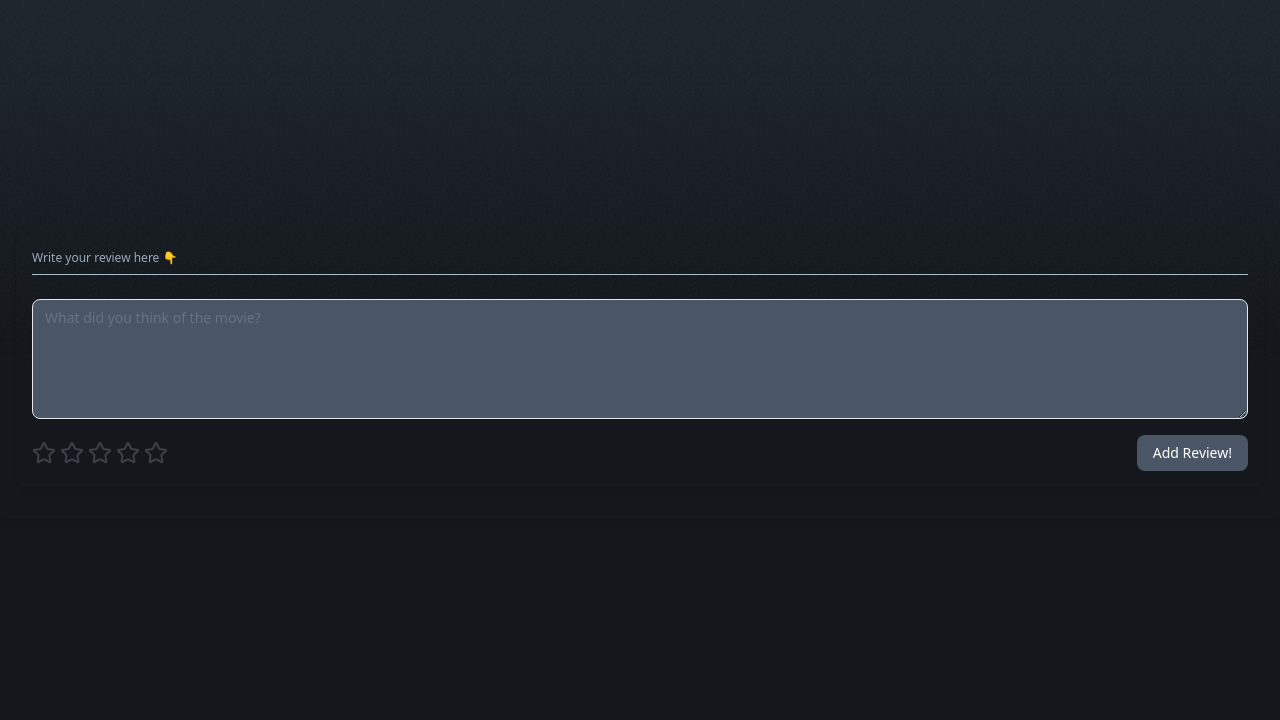
it: WriteReview › shows validation error if rating is missing
Type "Great movie!" into the text box with placeholder "What did you think of the movie?" at (640, 358), box [32, 298, 1248, 418]
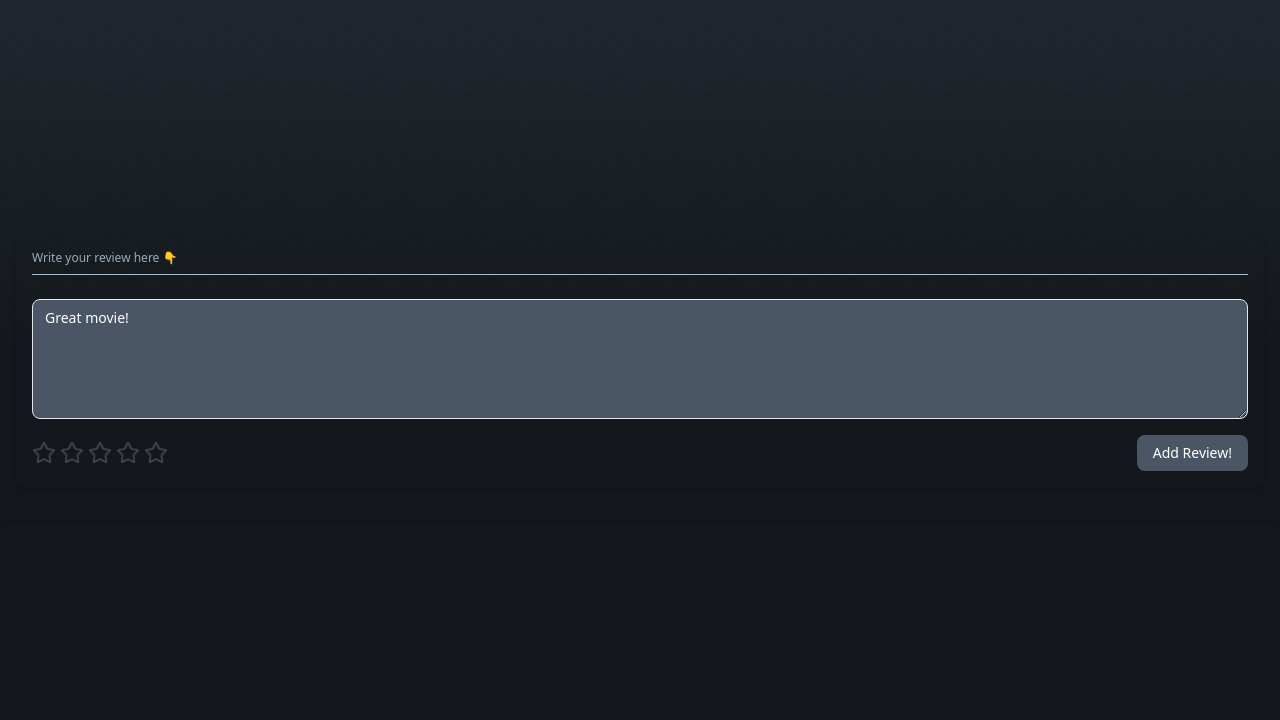
Click the button "Add Review!" at (1192, 452), box [1137, 434, 1248, 470]
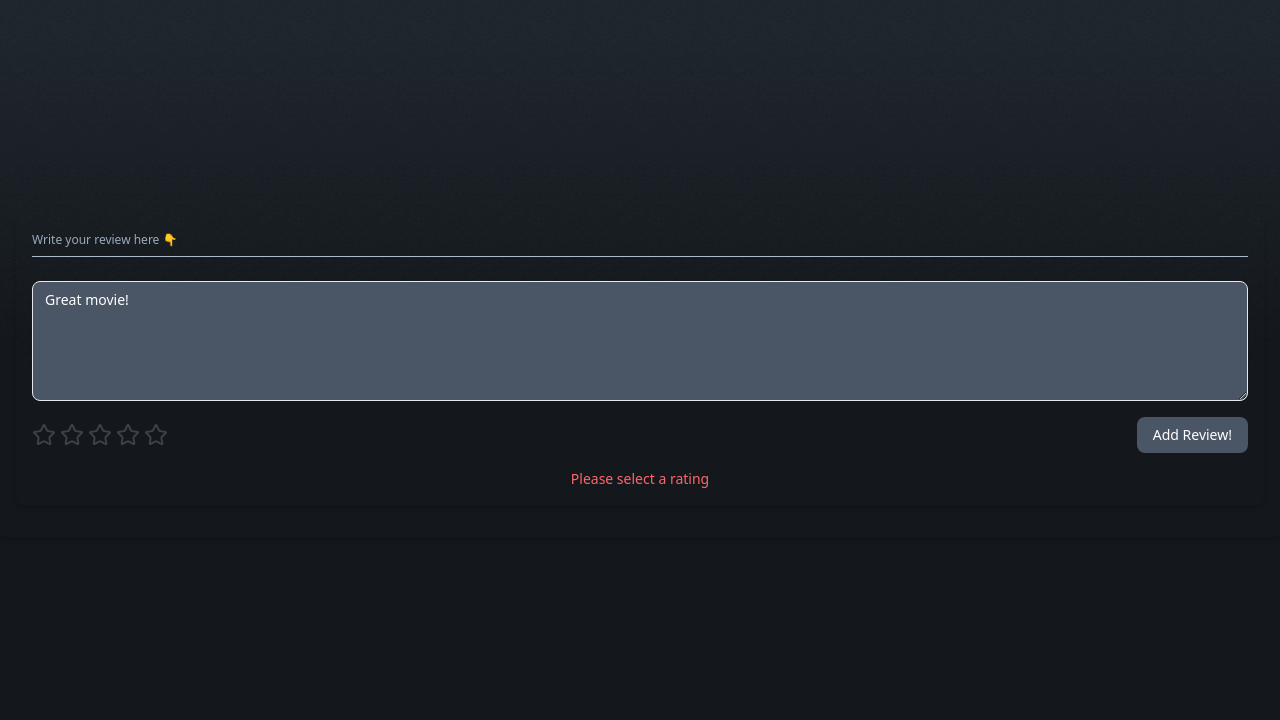
Expected: the text "Please select a rating" is shown, [571, 468, 709, 488]
